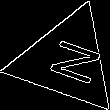N_W: (34, 33, 99, 88)
